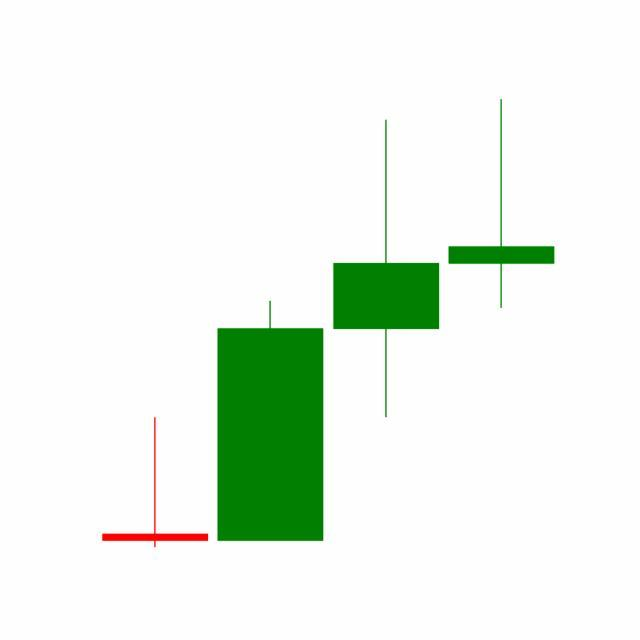Spinning Top: (329, 116, 445, 422)
